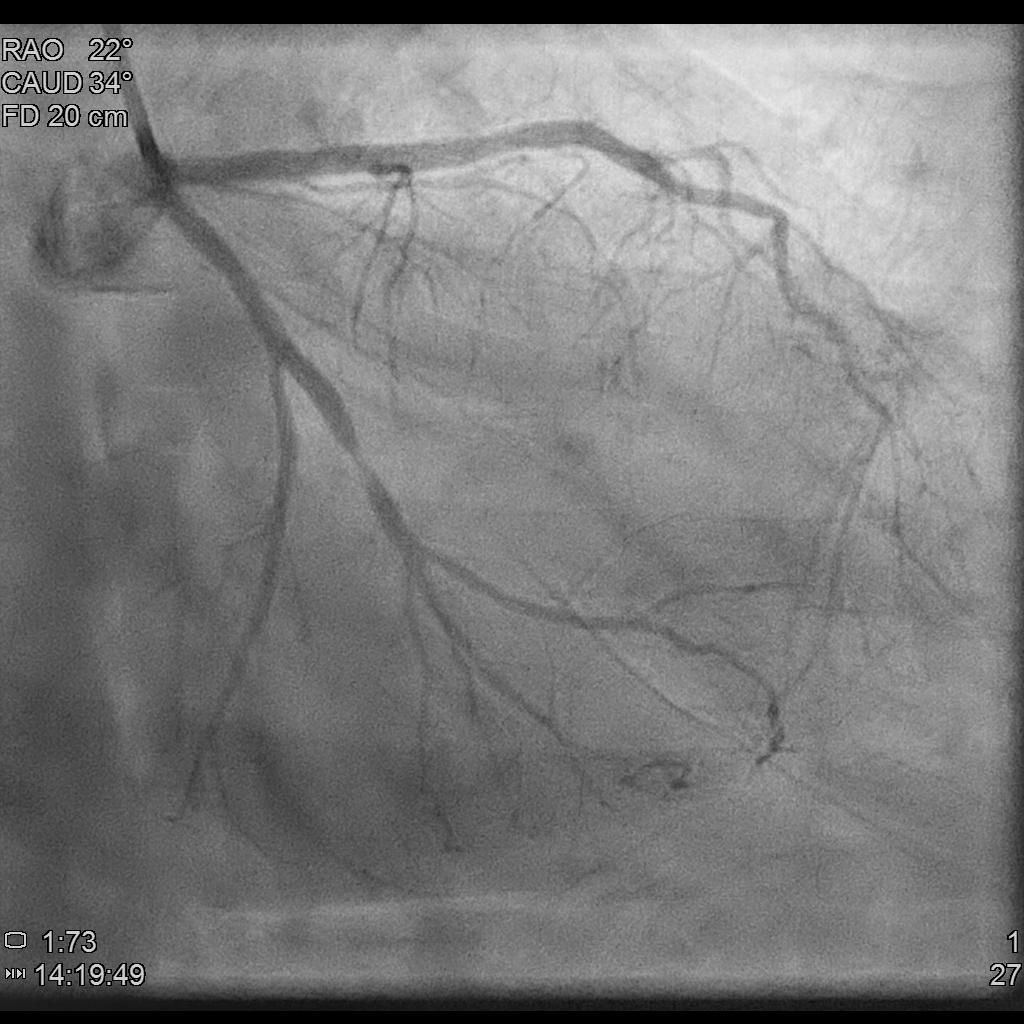block: (314, 410, 400, 496)
